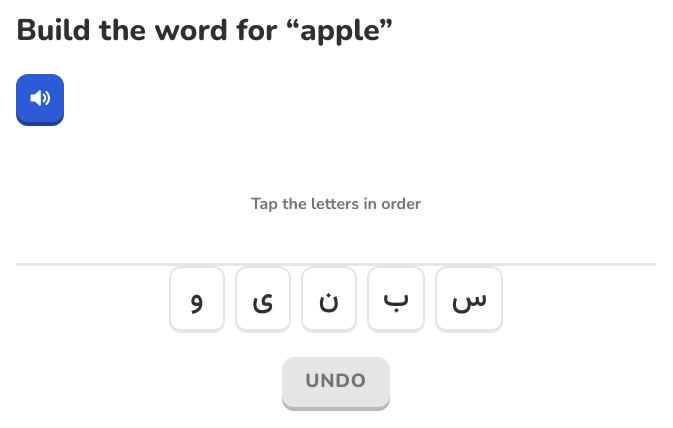
Scenario: build_word › placed letters join into ONE text run and are graded correct
Click the button "س" at (469, 299), box [435,266,503,332]
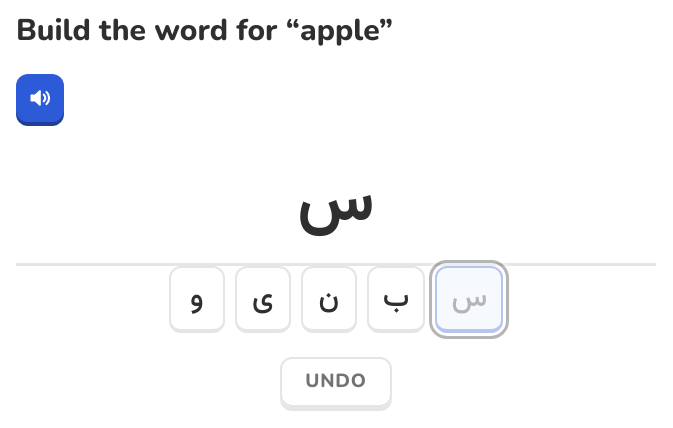
Click the button "ی" at (263, 299), box [235,266,291,332]
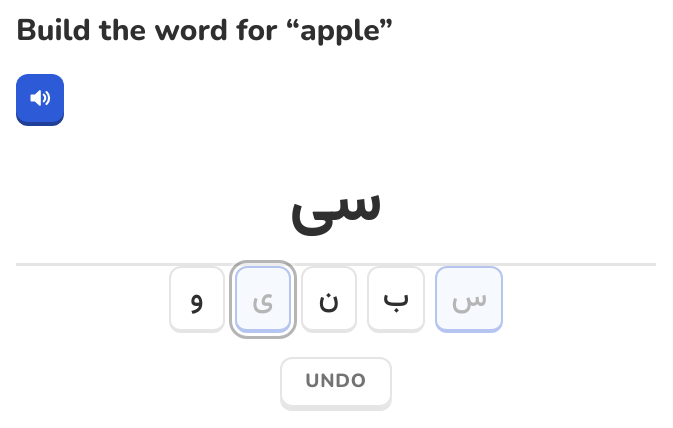
Click the button "ب" at (396, 299), box [367,266,425,332]
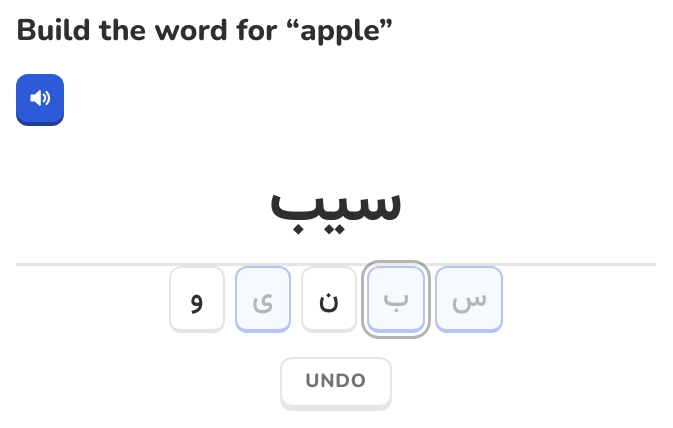
Expected: the text with test id "assembled-word" reads "سیب", [269,154,403,254]
